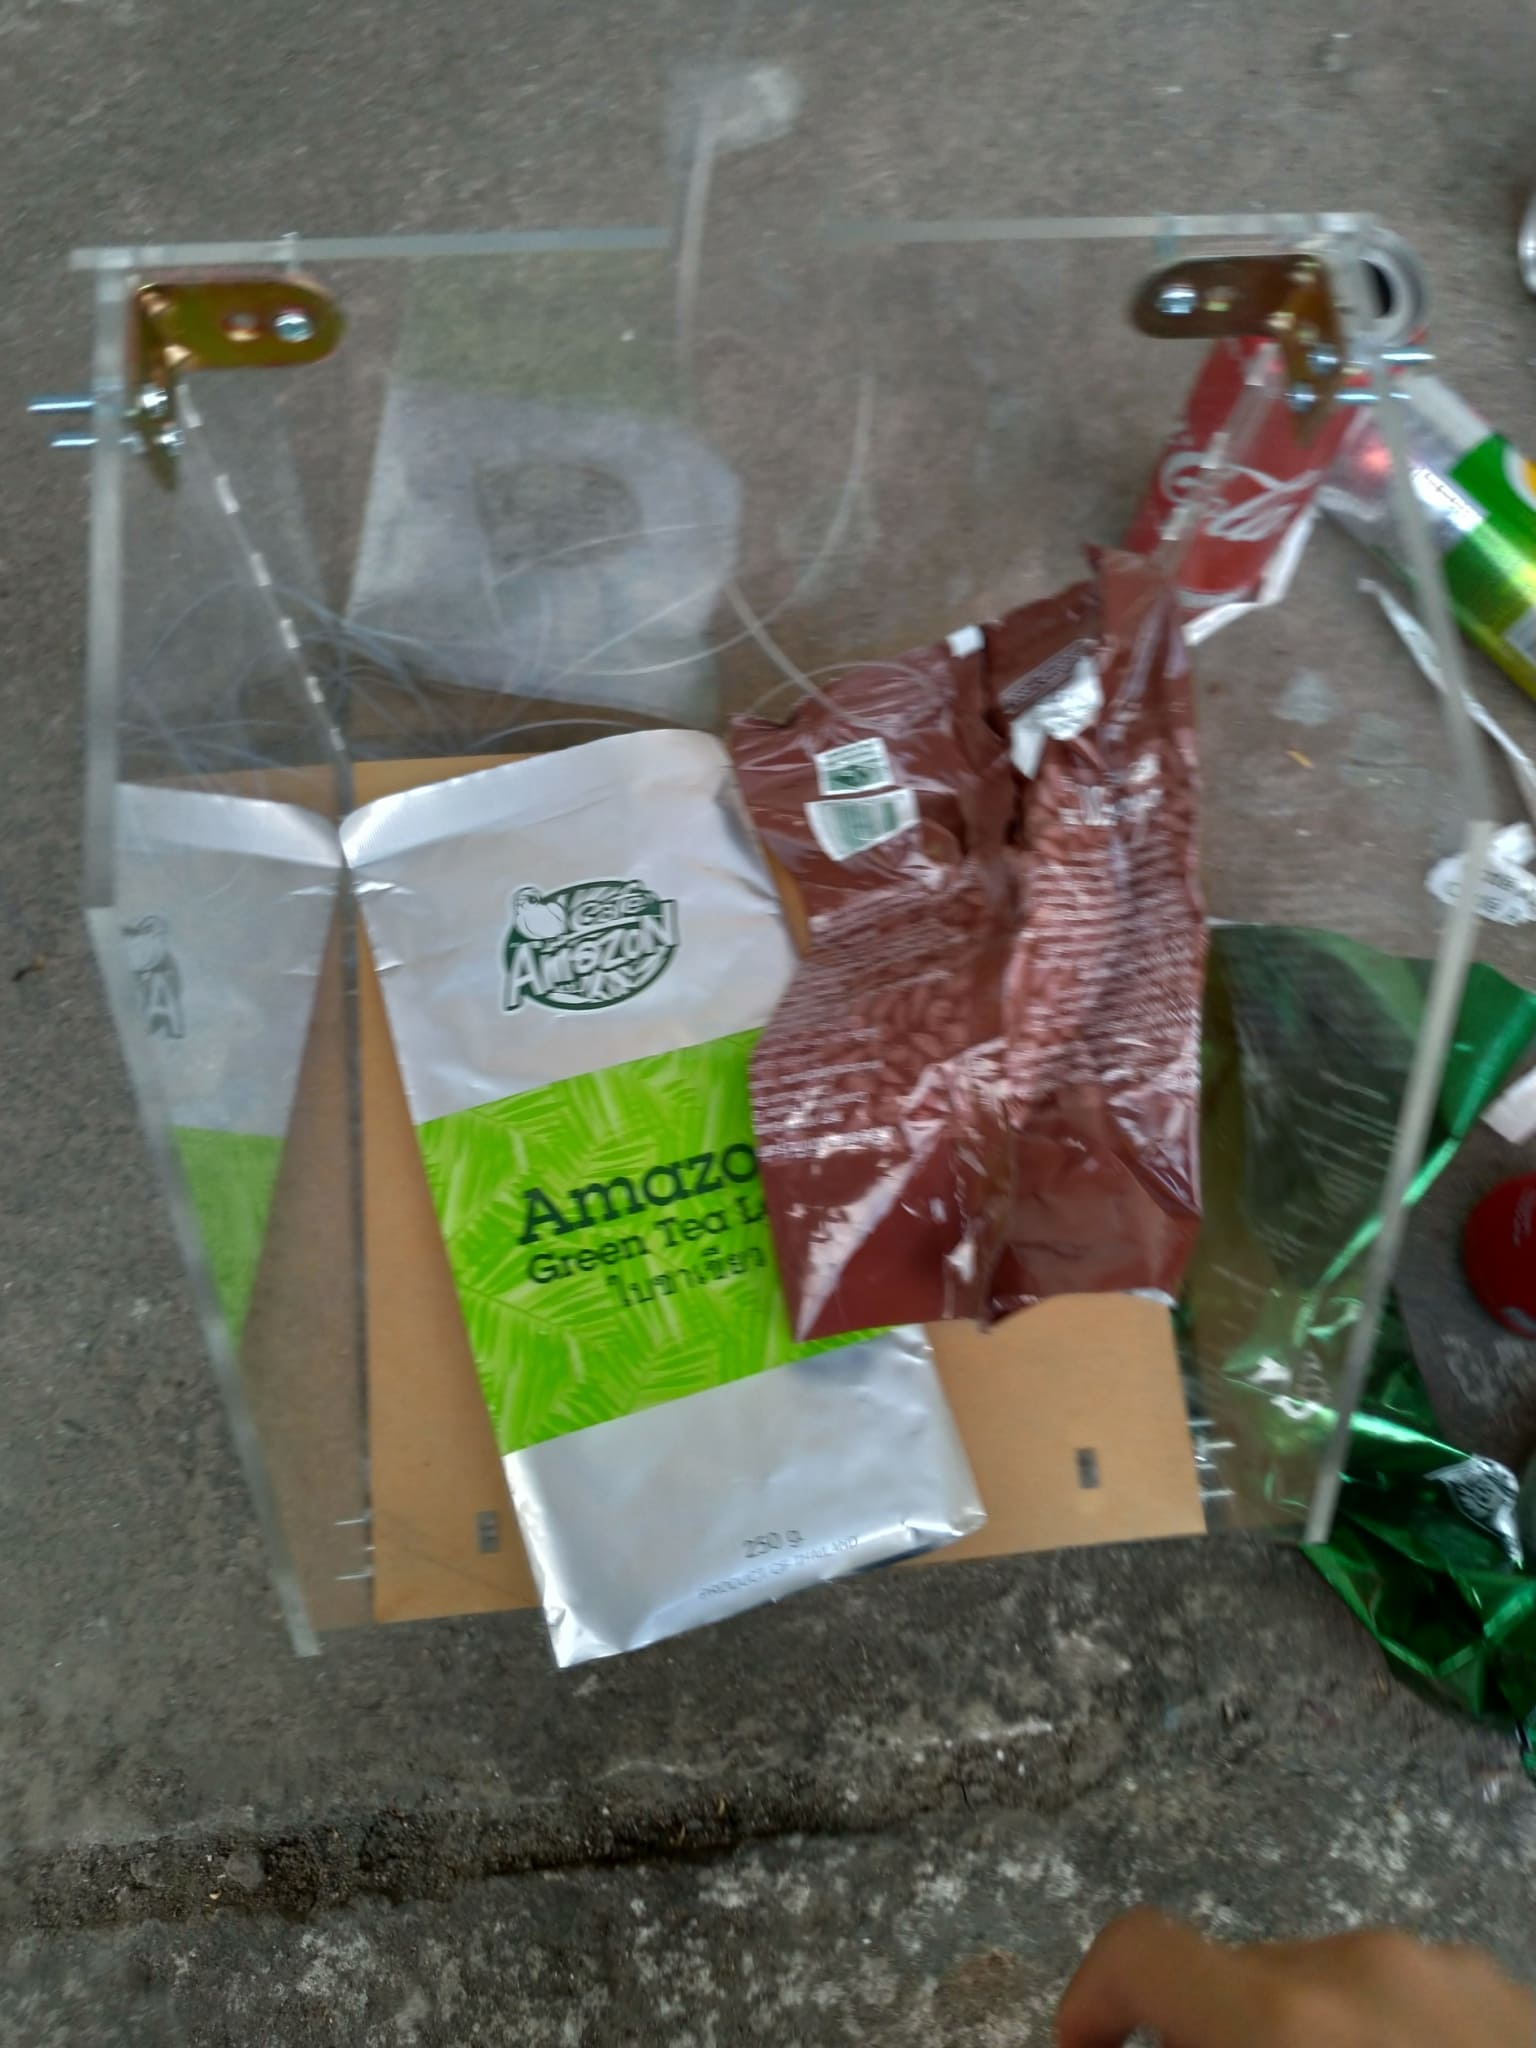AlCan: (1125, 223, 1421, 601), (1334, 381, 1536, 674)
Others: (344, 722, 970, 1672), (750, 585, 1184, 1305), (1194, 908, 1536, 1714)
